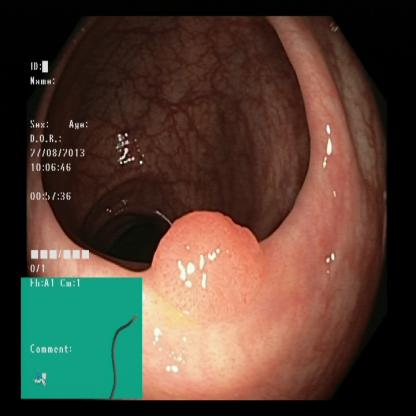Labels: (28, 56, 101, 277), (21, 276, 142, 398)
Polyps: (154, 206, 276, 320)
